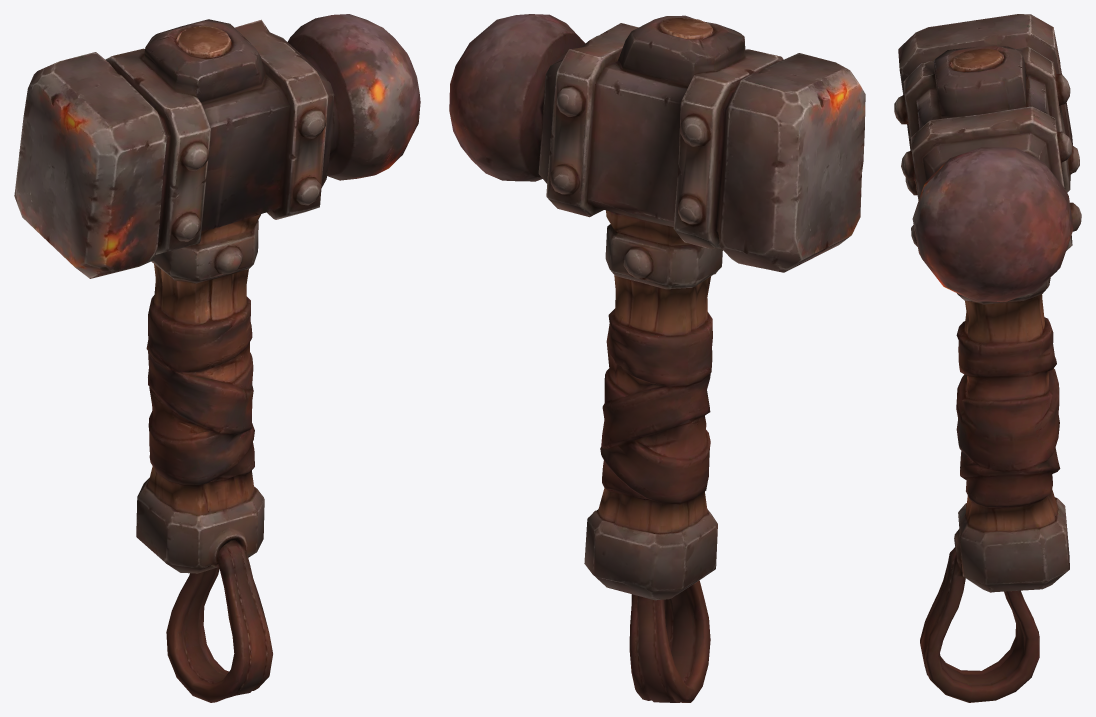
The model's file is tll_ch2_hammer.glb.
3 views of the same model, side by side, from view 1: azimuth 30°, elevation 25°; view 2: azimuth 150°, elevation 25°; view 3: azimuth 270°, elevation 25° (orthographic). The views are drawn at different scales.
Parts seen in each view (by area): view 1: tripo_node_da1a6484-fe2b-4518-9fb3-402b01240ec9; view 2: tripo_node_da1a6484-fe2b-4518-9fb3-402b01240ec9; view 3: tripo_node_da1a6484-fe2b-4518-9fb3-402b01240ec9.
Part boxes in pixels (bbox=[...]): tripo_node_da1a6484-fe2b-4518-9fb3-402b01240ec9: bbox=[14, 14, 420, 702]; tripo_node_da1a6484-fe2b-4518-9fb3-402b01240ec9: bbox=[449, 14, 865, 702]; tripo_node_da1a6484-fe2b-4518-9fb3-402b01240ec9: bbox=[894, 14, 1081, 702].
Size of the model in its own units: 0.3406 by 0.6 by 0.1608.
Materials: 1 (1 with a texture image).
